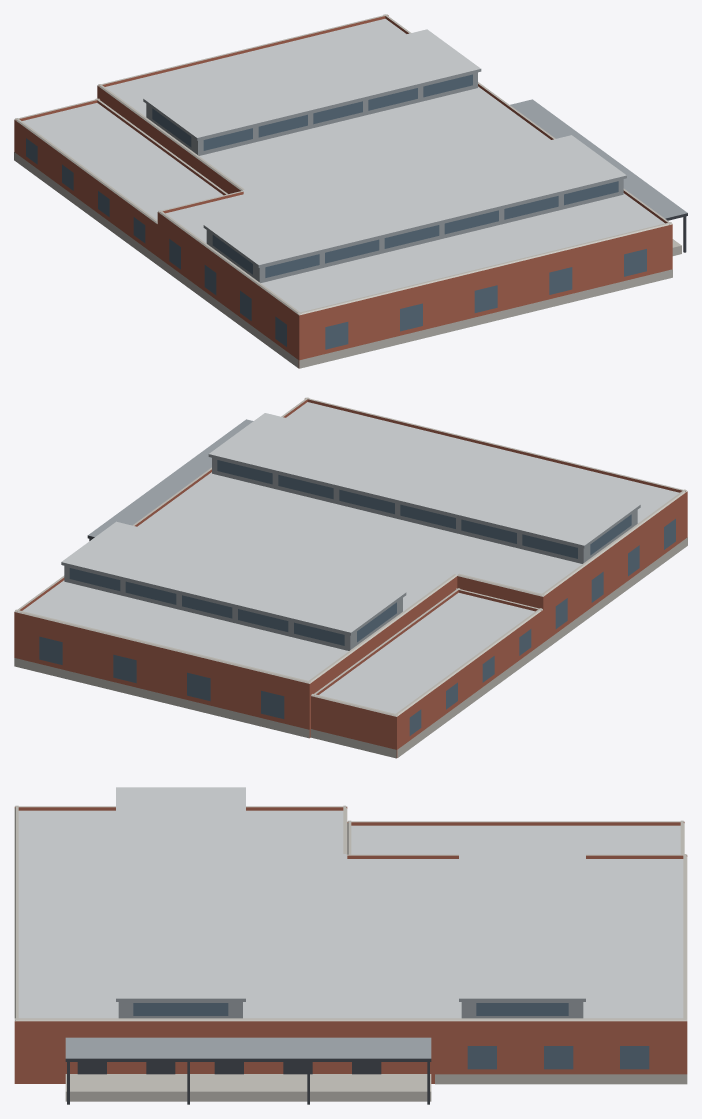
File: clt-cne-1720-statesville.glb
3 renders of one model, top to bottom at view 1: azimuth 30°, elevation 25°; view 2: azimuth 150°, elevation 25°; view 3: azimuth 270°, elevation 25°, orthographic. The views are drawn at different scales.
Parts seen in each view (by area): view 1: 1720 Statesville Avenue, Camp North End; view 2: 1720 Statesville Avenue, Camp North End; view 3: 1720 Statesville Avenue, Camp North End.
Boxes of the visible parts, bbox=[...] form: 1720 Statesville Avenue, Camp North End: bbox=[14, 14, 687, 368]; 1720 Statesville Avenue, Camp North End: bbox=[14, 397, 687, 758]; 1720 Statesville Avenue, Camp North End: bbox=[14, 787, 687, 1104].
Bounding box in the file's own units: 61.06 × 10.1 × 73.72.
